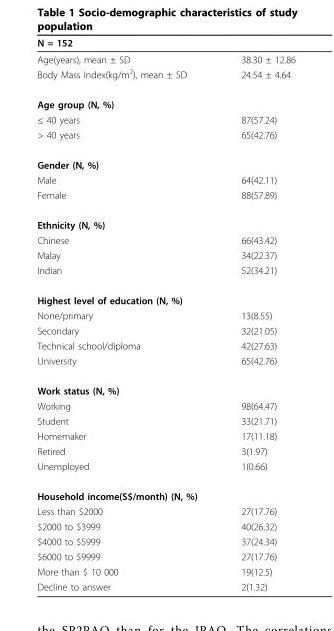table: (36, 36, 294, 591)
table column: (36, 36, 218, 591), (218, 36, 294, 591)
table column header: (36, 36, 294, 50)
table projected row header: (36, 149, 294, 172), (36, 209, 294, 232), (36, 284, 294, 307), (36, 375, 294, 398), (36, 480, 294, 503), (36, 89, 294, 111)
table row: (36, 65, 294, 89), (36, 126, 294, 149), (36, 149, 294, 172), (36, 209, 294, 232), (36, 284, 294, 307), (36, 352, 294, 375), (36, 375, 294, 398), (36, 480, 294, 503), (36, 89, 294, 111), (36, 187, 294, 209), (36, 262, 294, 284), (36, 458, 294, 480), (36, 50, 294, 65), (36, 111, 294, 126), (36, 172, 294, 187), (36, 232, 294, 247), (36, 247, 294, 262), (36, 307, 294, 322), (36, 322, 294, 337), (36, 337, 294, 352), (36, 398, 294, 413), (36, 413, 294, 428), (36, 428, 294, 443), (36, 443, 294, 458), (36, 503, 294, 518), (36, 518, 294, 533), (36, 533, 294, 548), (36, 548, 294, 563), (36, 563, 294, 578), (36, 36, 294, 50), (36, 578, 294, 591)
